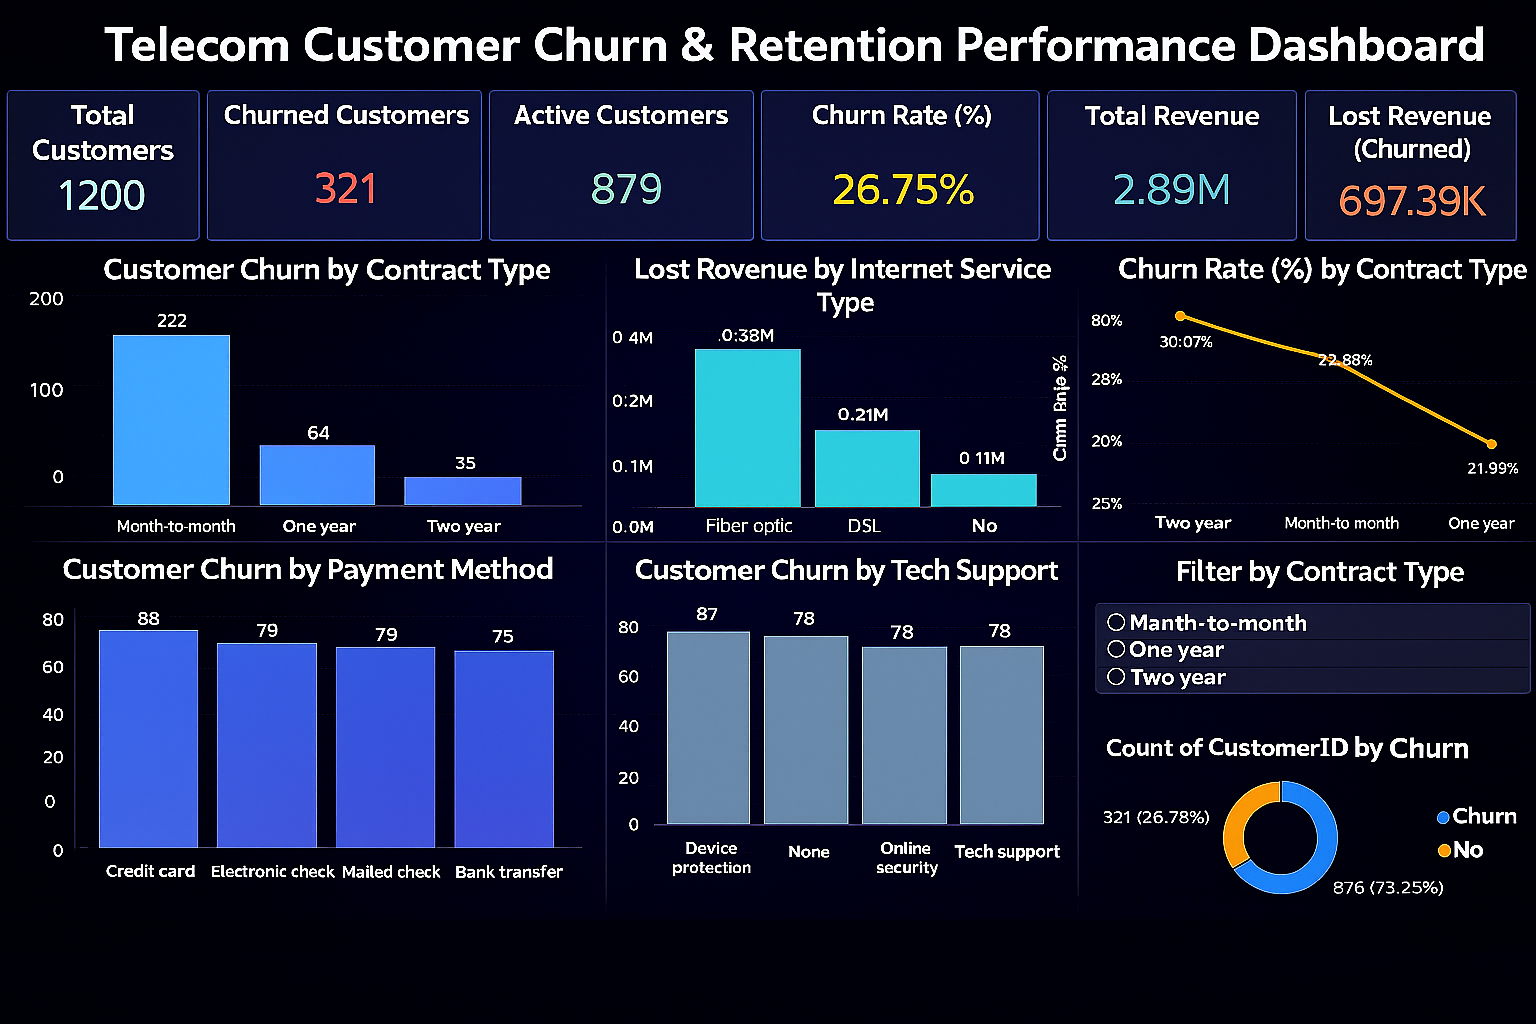

Layout of this report page (visuals, bound fields, positions):
{"tool":"powerbi","page":{"name":"Page 1","canvas":[1280,720],"ordinal":0},"visuals":[{"type":"card","title":"Total Customers","fields":{"Values":["telecom_churn_dataset.Total Customers"]},"box":[0,62.5,156.3,127.8],"z":0},{"type":"card","title":"Churned Customers","fields":{"Values":["telecom_churn_dataset.Churned Customers"]},"box":[156.3,62.5,224.3,127.8],"z":1000},{"type":"card","title":"Active Customers","fields":{"Values":["telecom_churn_dataset.Active Customers"]},"box":[380.5,62.5,235.1,127.8],"z":2000},{"type":"card","title":"Churn Rate (%)","fields":{"Values":["telecom_churn_dataset.Churn Rate %"]},"box":[615.7,62.5,254.2,127.8],"z":3000},{"type":"card","title":"Total Revenue","fields":{"Values":["telecom_churn_dataset.Total Revenue"]},"box":[869.8,62.5,205.2,127.8],"z":4000},{"type":"card","title":"Lost Revenue (Churned)","fields":{"Values":["telecom_churn_dataset.Lost Revenue (Churned)"]},"box":[1075.1,62.5,205.2,127.8],"z":5000},{"type":"textbox","box":[0,0,1280.3,62.5],"z":6000},{"type":"clusteredColumnChart","title":"Customer Churn by Contract Type","fields":{"Category":["telecom_churn_dataset.ContractType"],"Y":["telecom_churn_dataset.Churned Customers"]},"box":[0,190.3,487.9,227],"z":7000},{"type":"clusteredColumnChart","title":"Lost Revenue by Internet Service Type","fields":{"Category":["telecom_churn_dataset.InternetService"],"Y":["telecom_churn_dataset.Lost Revenue (Churned)"]},"box":[487.9,191.6,390.1,228.3],"z":8000},{"type":"clusteredColumnChart","title":"Customer Churn by Payment Method","fields":{"Category":["telecom_churn_dataset.PaymentMethod"],"Y":["telecom_churn_dataset.Churned Customers"]},"box":[0,417.2,487.9,303.1],"z":9000},{"type":"clusteredColumnChart","title":"Customer Churn by Tech Support","fields":{"Category":["telecom_churn_dataset.TechSupport"],"Y":["telecom_churn_dataset.Churned Customers"]},"box":[490.6,420,388.7,300.4],"z":10000},{"type":"listSlicer","title":"Filter by Contract Type","fields":{"Values":["telecom_churn_dataset.ContractType"]},"box":[878,417.2,400.9,176.7],"z":11000},{"type":"lineChart","title":"Churn Rate (%) by Contract Type","fields":{"Category":["telecom_churn_dataset.ContractType"],"Y":["telecom_churn_dataset.Churn Rate %"]},"box":[878,190.3,402.3,229.7],"z":12000},{"type":"donutChart","fields":{"Category":["telecom_churn_dataset.Churn"],"Y":["CountNonNull(telecom_churn_dataset.CustomerID)"]},"box":[880.7,540.9,399.6,179.4],"z":12001}]}

Visuals, with their boxes on the page's 1280x720 design canvas (x1, y1, x2, y2). These are canvas units, not pixel positions in the 1536x1024 screenshot, which may show the page scaled, cropped or inside an application window:
"Total Customers" card: (0, 62, 156, 190)
"Churned Customers" card: (156, 62, 381, 190)
"Active Customers" card: (380, 62, 616, 190)
"Churn Rate (%)" card: (616, 62, 870, 190)
"Total Revenue" card: (870, 62, 1075, 190)
"Lost Revenue (Churned)" card: (1075, 62, 1280, 190)
textbox: (0, 0, 1280, 62)
"Customer Churn by Contract Type" clusteredColumnChart: (0, 190, 488, 417)
"Lost Revenue by Internet Service Type" clusteredColumnChart: (488, 192, 878, 420)
"Customer Churn by Payment Method" clusteredColumnChart: (0, 417, 488, 720)
"Customer Churn by Tech Support" clusteredColumnChart: (491, 420, 879, 720)
"Filter by Contract Type" listSlicer: (878, 417, 1279, 594)
"Churn Rate (%) by Contract Type" lineChart: (878, 190, 1280, 420)
donutChart - telecom_churn_dataset.Churn x CountNonNull(telecom_churn_dataset.CustomerID): (881, 541, 1280, 720)
